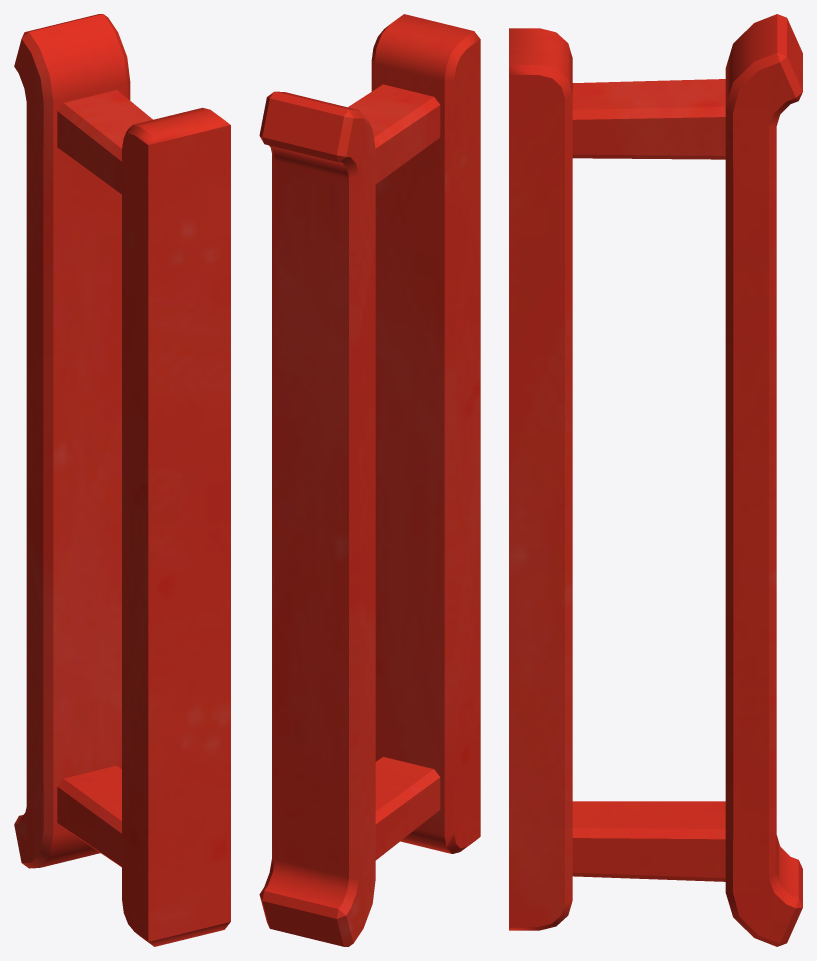
Rendered from FenceJapanese.FBX.
3 renders of one model, left to right at view 1: azimuth 30°, elevation 25°; view 2: azimuth 150°, elevation 25°; view 3: azimuth 270°, elevation 25°, orthographic. The views are drawn at different scales.
Parts seen in each view (by area): view 1: pCube666__RedPaint; view 2: pCube666__RedPaint; view 3: pCube666__RedPaint.
Part boxes in pixels (x1,y1,x2,y2): pCube666__RedPaint: (14,14,230,946); pCube666__RedPaint: (259,14,480,946); pCube666__RedPaint: (509,14,802,946).
Bounding box in the file's own units: 42 × 387 × 115.
